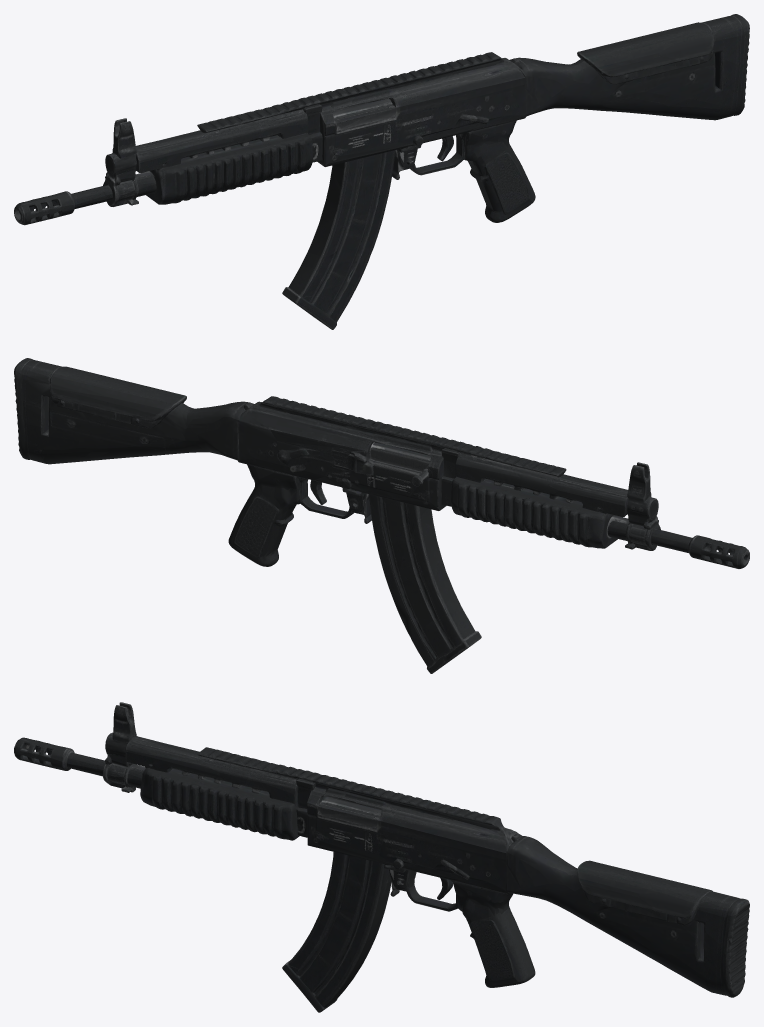
The model's file is saiga.glb.
3 views of the same model, one above another, from view 1: azimuth 30°, elevation 25°; view 2: azimuth 150°, elevation 25°; view 3: azimuth 330°, elevation 25° (orthographic).
Size of the model in its own units: 1.9 by 0.6349 by 0.1488.
1 material, 1 textured.
